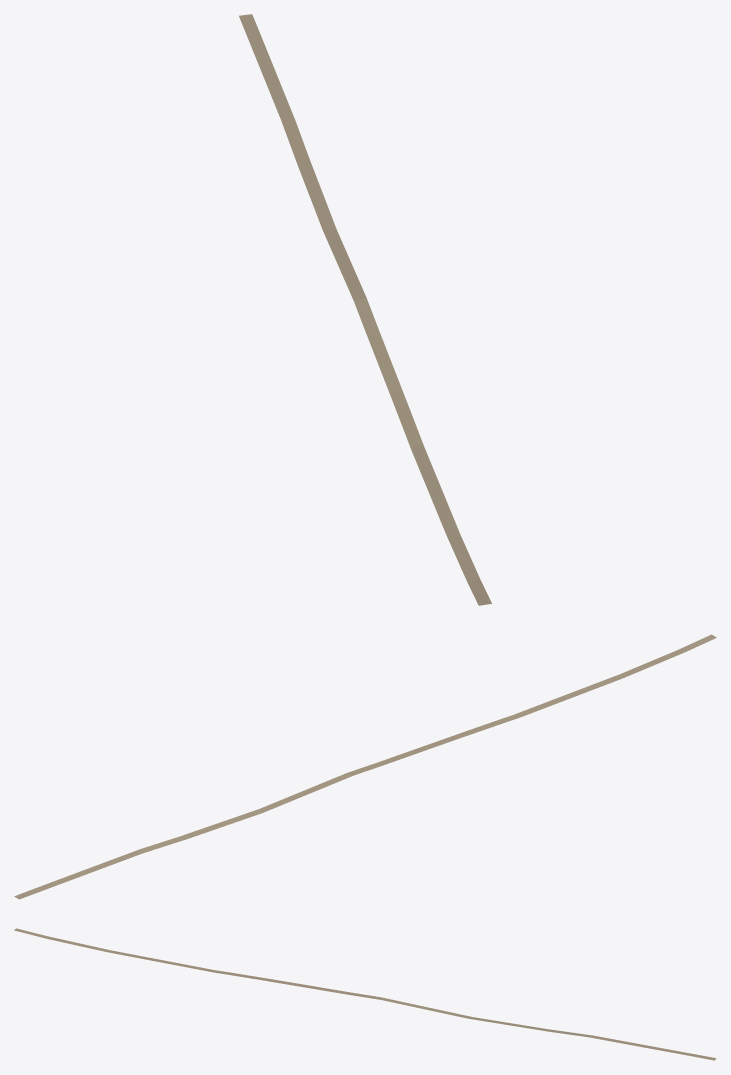
File: farm_12_22_track.glb
The picture shows the model from 3 angles, top to bottom: view 1: azimuth 30°, elevation 25°; view 2: azimuth 150°, elevation 25°; view 3: azimuth 270°, elevation 25°; orthographic projection. The views are drawn at different scales.
Visible parts, largest first — view 1: geometry_0; view 2: geometry_0; view 3: geometry_0.
Boxes of the visible parts, x1,y1,x2,y2 form: geometry_0: (239, 14, 491, 605); geometry_0: (14, 634, 716, 899); geometry_0: (14, 928, 716, 1060).
Bounding box in the file's own units: 131 × 9.65 × 338.
